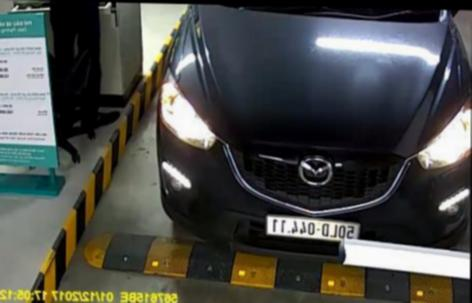License_Plate: (252, 214, 361, 250)
